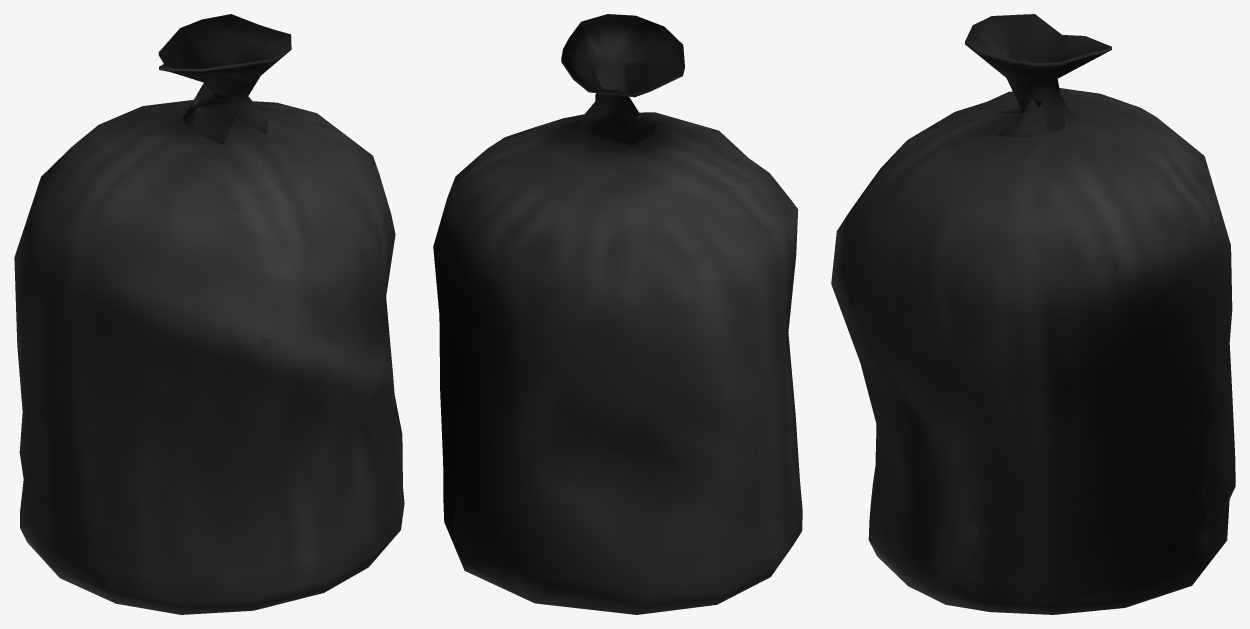
File: Garbage_Bag_05.fbx
The picture shows the model from 3 angles, left to right: view 1: azimuth 30°, elevation 25°; view 2: azimuth 150°, elevation 25°; view 3: azimuth 270°, elevation 25°; orthographic projection. The views are drawn at different scales.
Parts seen in each view (by area): view 1: Bag_06_low; view 2: Bag_06_low; view 3: Bag_06_low.
Part boxes in pixels (x1,y1,x2,y2): Bag_06_low: [14, 14, 404, 614]; Bag_06_low: [433, 14, 802, 614]; Bag_06_low: [831, 14, 1235, 614].
Bounding box in the file's own units: 46.05 × 68.79 × 47.89.
1 material, 1 textured.
